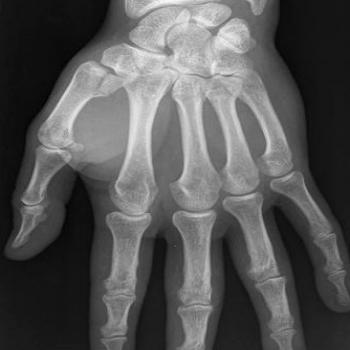Fracture: (96, 63, 128, 102)
